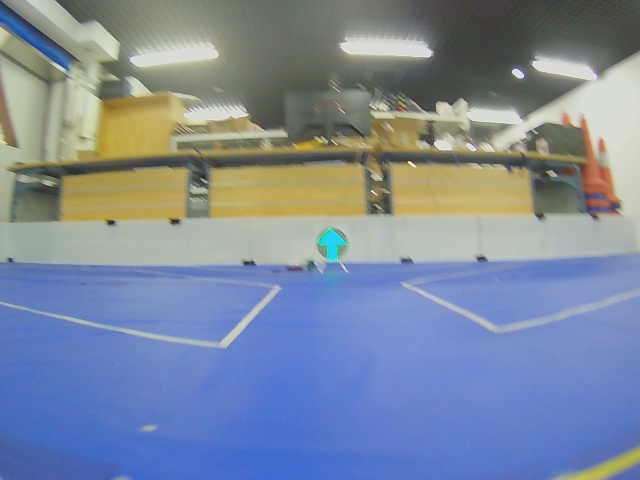straight_green: (316, 228, 348, 263)
